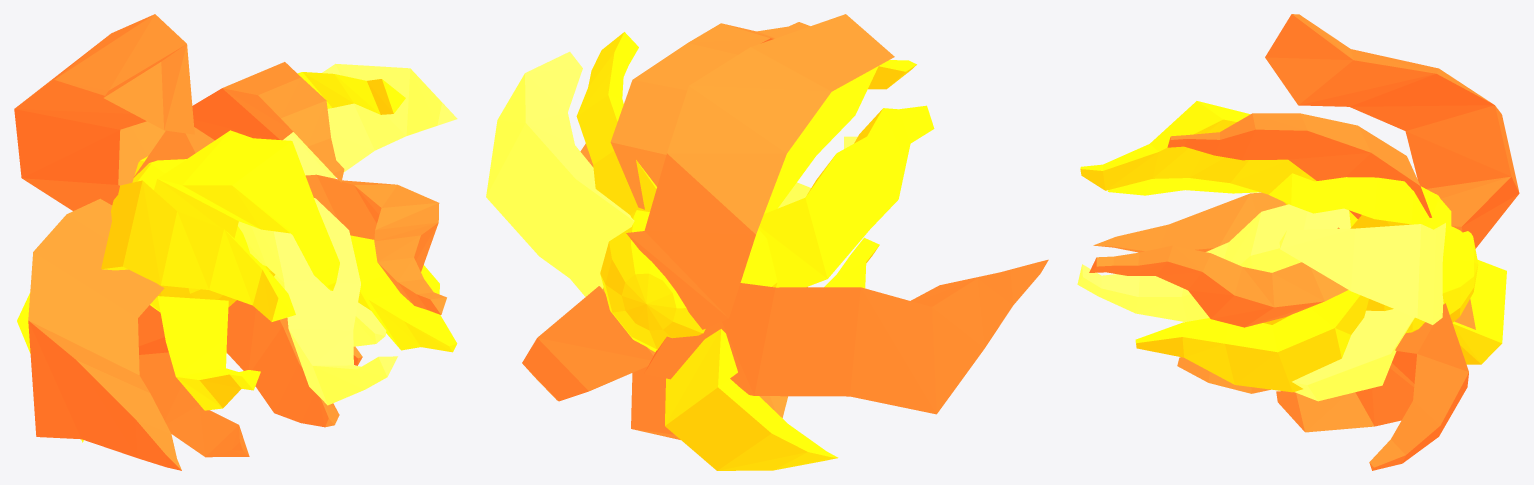
Rendered from fire-3.glb.
3 renders of one model, left to right at view 1: azimuth 30°, elevation 25°; view 2: azimuth 150°, elevation 25°; view 3: azimuth 270°, elevation 25°, orthographic. The views are drawn at different scales.
Size of the model in its own units: 0.9344 by 0.8922 by 0.9484.
